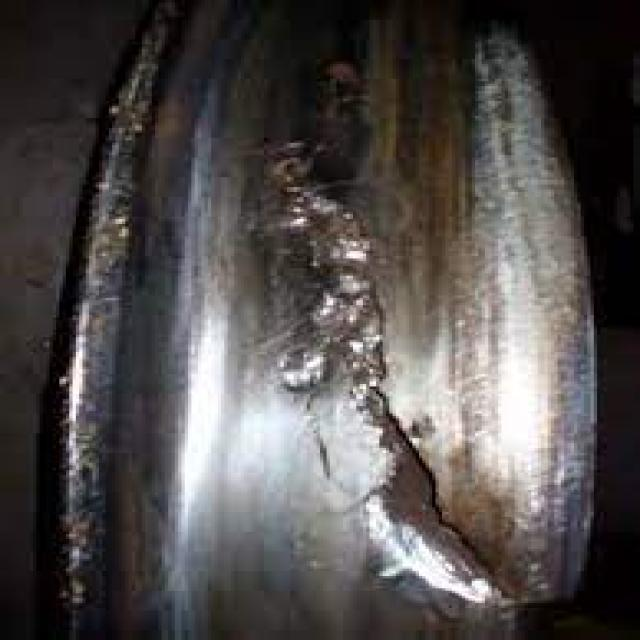Contact_Fatigue_Cracks: (227, 103, 556, 604)
